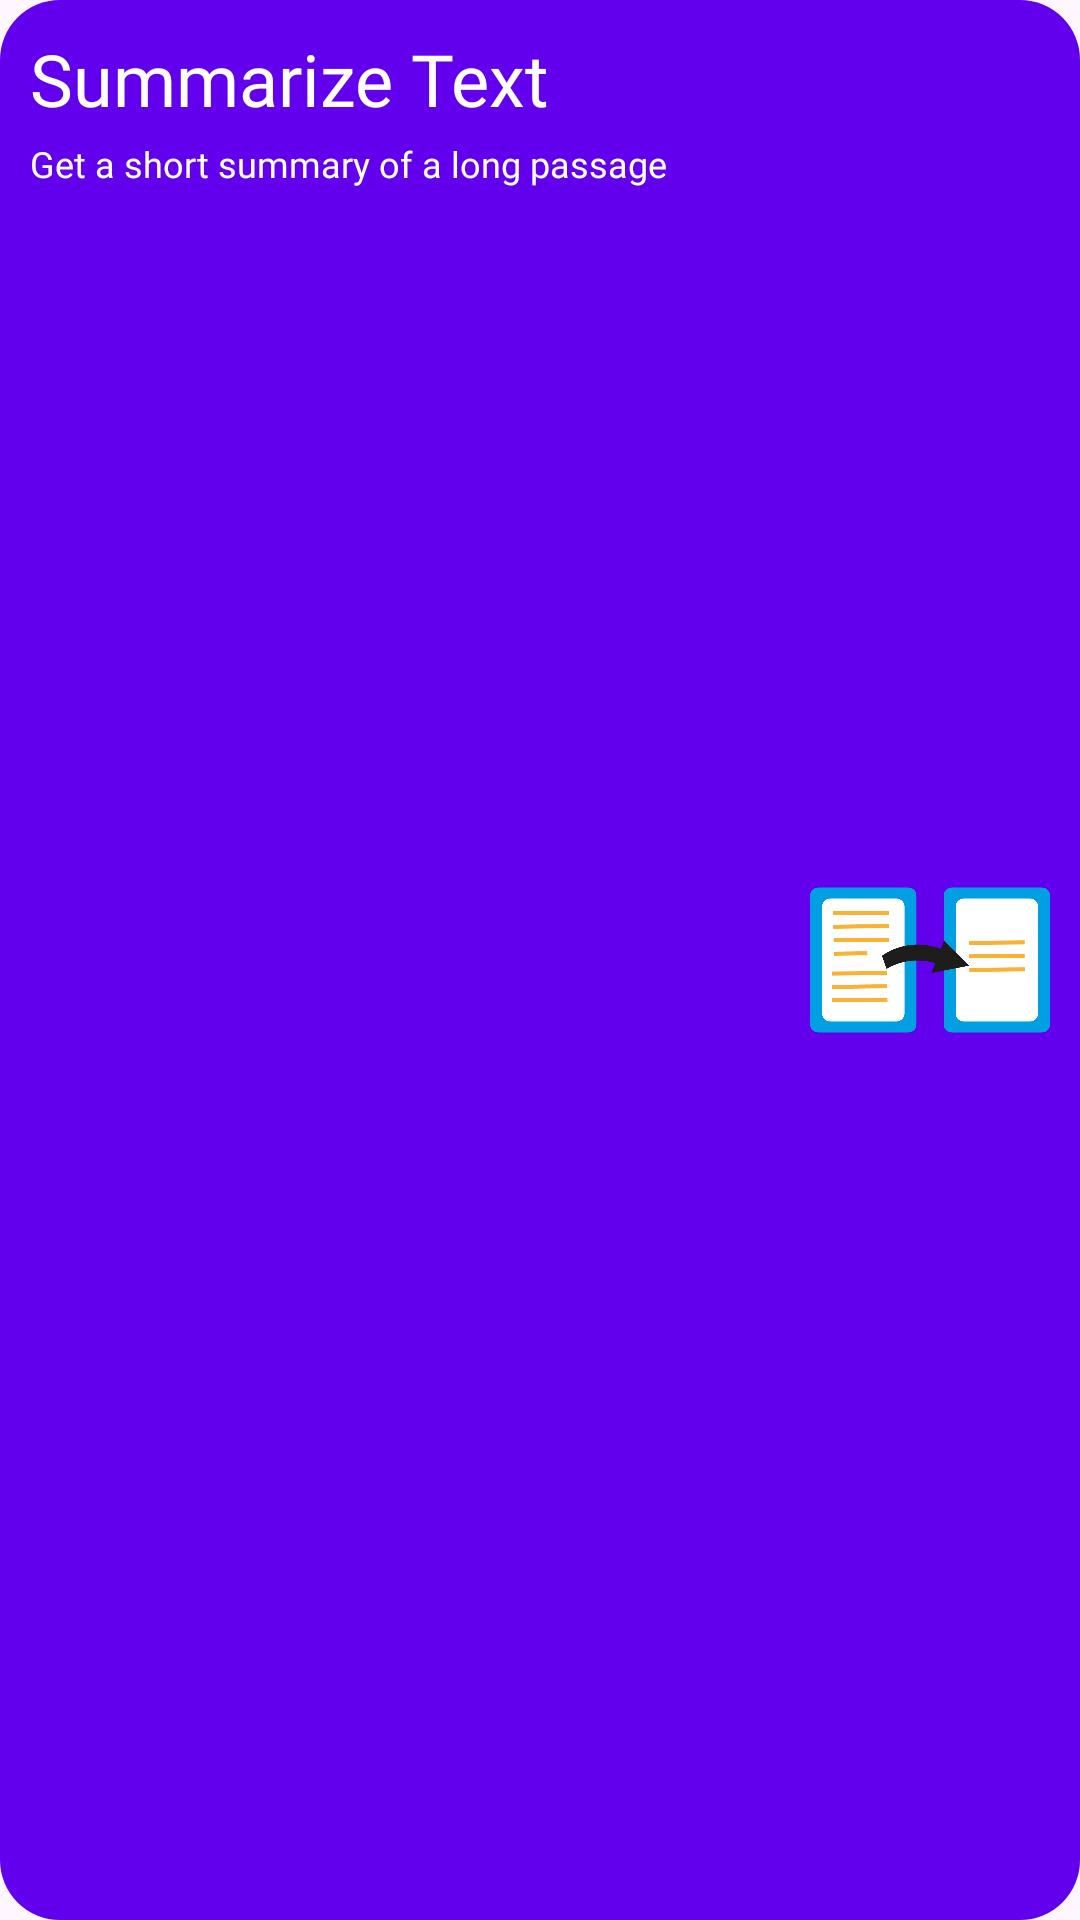

Icons on this 1080px×1920px Android screen, each with its box as (x1, y1, x2, y2):
summarise: (810, 887, 1050, 1033)
